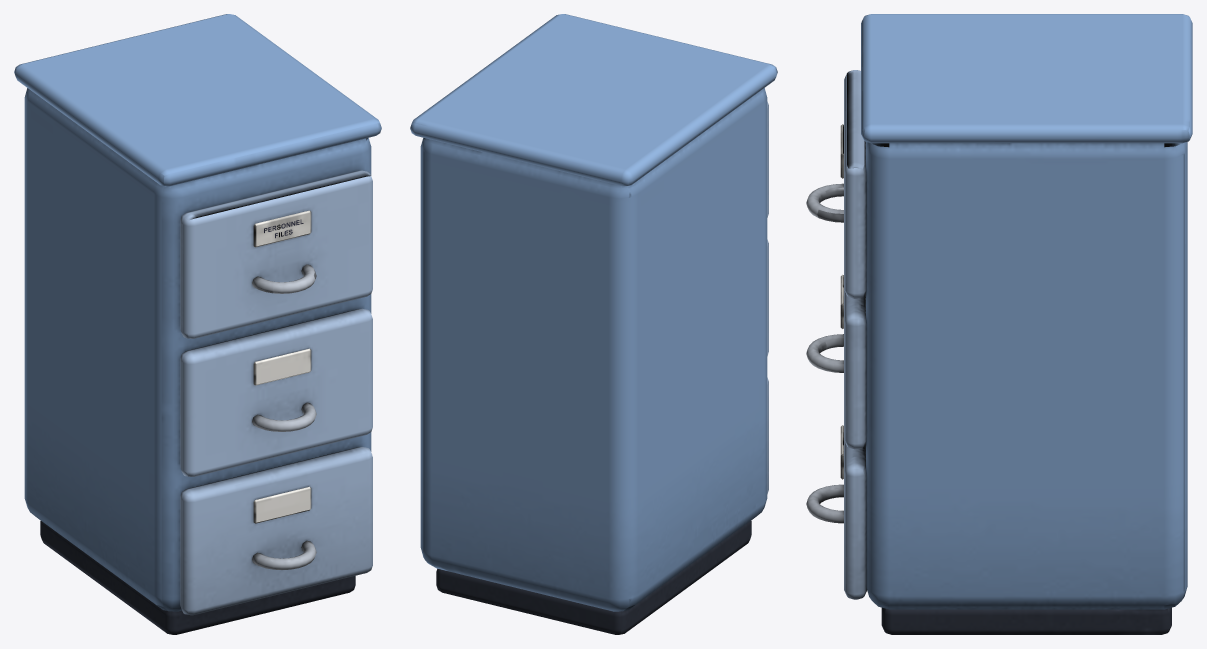
The model's file is filing_cabinet.glb.
The picture shows the model from 3 angles, left to right: view 1: azimuth 30°, elevation 25°; view 2: azimuth 150°, elevation 25°; view 3: azimuth 270°, elevation 25°; orthographic projection. The views are drawn at different scales.
Parts seen in each view (by area): view 1: filing_cabinet, Drawer3, Drawer1, Drawer2; view 2: filing_cabinet; view 3: filing_cabinet, Drawer1, Drawer3, Drawer2.
Part boxes in pixels (x1,y1,x2,y2): filing_cabinet: (14, 14, 381, 634); Drawer3: (180, 447, 372, 615); Drawer1: (180, 170, 372, 338); Drawer2: (180, 308, 372, 476); filing_cabinet: (410, 14, 777, 634); filing_cabinet: (861, 14, 1192, 634); Drawer1: (806, 70, 866, 298); Drawer3: (806, 425, 866, 599); Drawer2: (806, 274, 866, 449).
Bounding box in the file's own units: 0.54 × 1.11 × 0.7455.
Materials: 6 (6 with a texture image).
